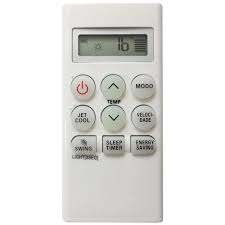remote control: (59, 1, 167, 223)
